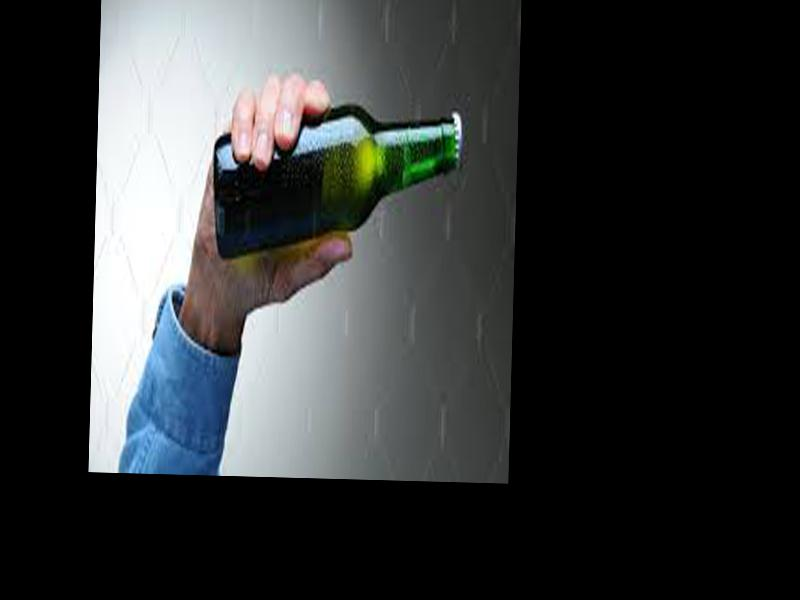Beer: (209, 102, 466, 268)
